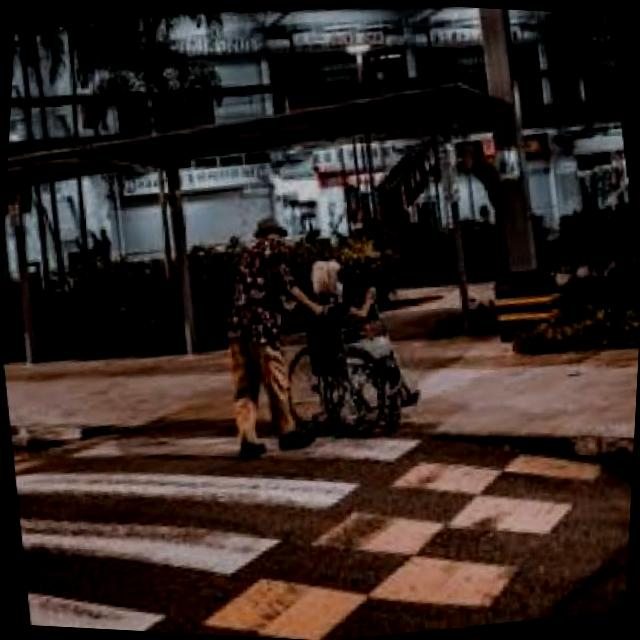Person: (198, 207, 352, 463), (268, 248, 427, 448)
